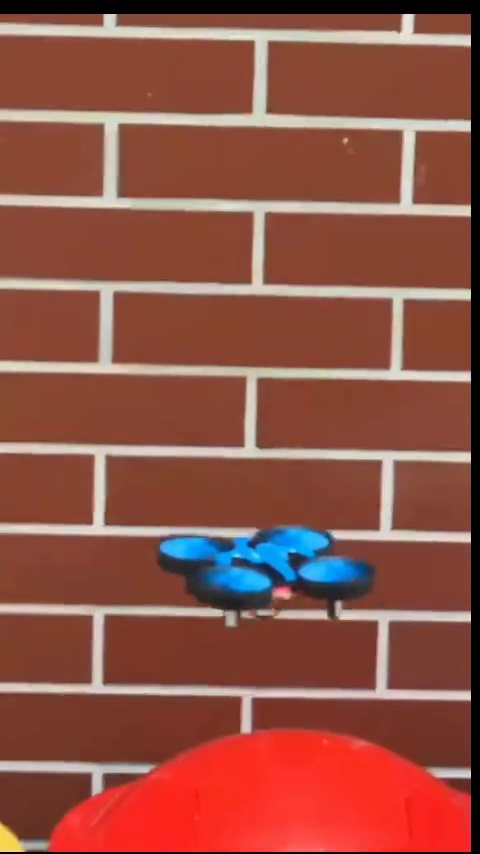drone: (150, 526, 377, 631)
